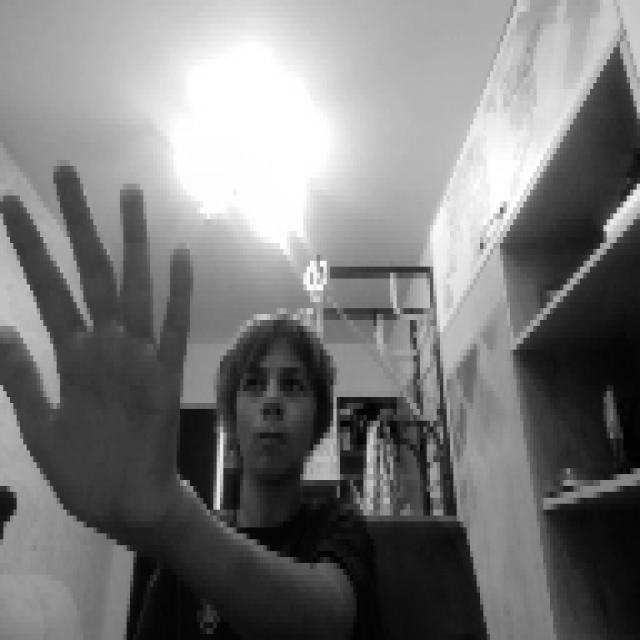hand: (2, 150, 192, 529)
